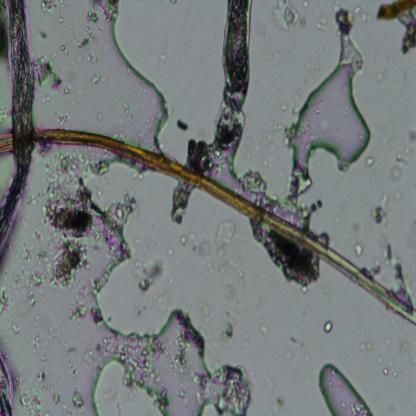Air bubble: (290, 11, 369, 174), (91, 356, 170, 416), (318, 361, 374, 415)
Background material: (99, 300, 252, 415), (32, 150, 96, 299), (6, 310, 82, 376), (250, 225, 320, 295), (105, 330, 162, 386), (352, 329, 405, 384), (375, 0, 416, 54), (16, 365, 58, 416), (380, 240, 412, 304), (387, 118, 415, 190), (78, 1, 119, 47), (15, 241, 40, 304), (200, 216, 238, 256), (203, 256, 245, 289), (262, 113, 282, 173), (272, 0, 309, 32), (37, 56, 64, 96), (139, 258, 166, 290), (69, 284, 90, 322), (252, 307, 272, 345), (372, 188, 392, 226), (64, 79, 89, 108), (71, 22, 92, 52), (0, 283, 15, 323), (179, 228, 199, 253), (220, 320, 236, 348), (116, 95, 133, 119), (351, 3, 370, 24), (54, 103, 70, 126), (40, 2, 62, 18), (71, 385, 85, 410), (203, 298, 214, 328), (352, 239, 364, 259), (164, 244, 178, 260), (313, 16, 327, 32), (322, 317, 334, 335), (176, 120, 190, 133), (58, 41, 72, 54), (91, 70, 101, 84), (95, 110, 106, 121), (39, 26, 47, 38)
Cellulose filter fibre: (190, 0, 252, 168), (0, 0, 33, 251), (0, 358, 14, 415)
